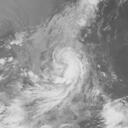cyclone: (42, 46, 87, 89)
